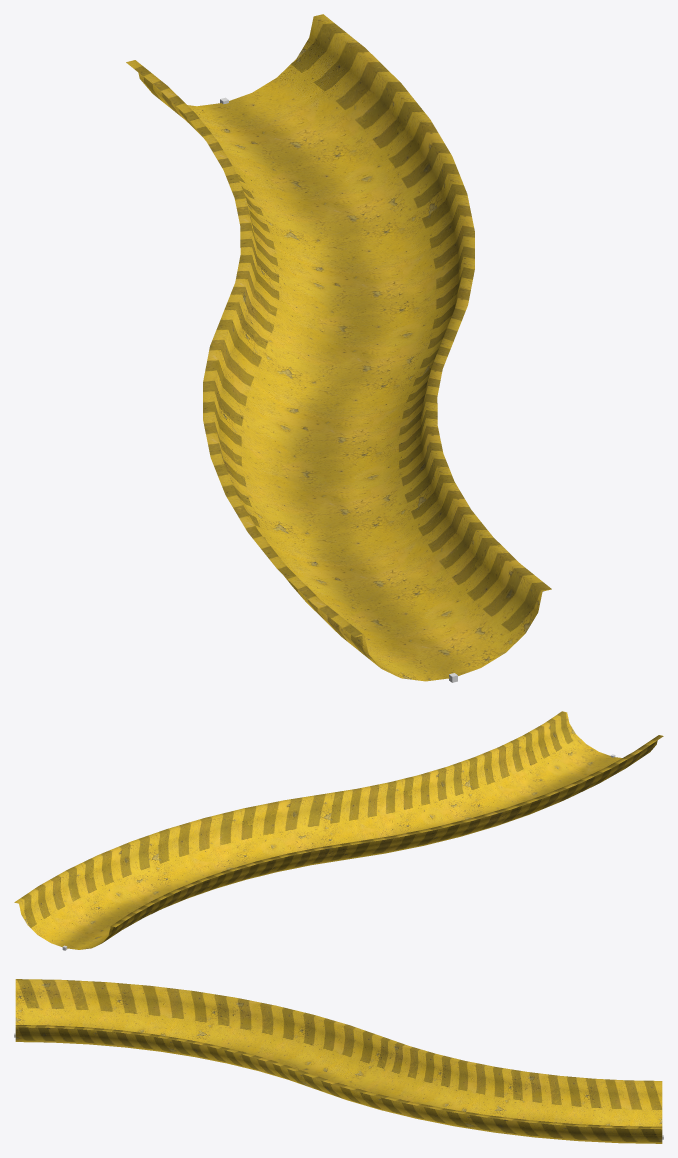
Rendered from roadShift.right3.fbx.
3 renders of one model, top to bottom at view 1: azimuth 30°, elevation 25°; view 2: azimuth 150°, elevation 25°; view 3: azimuth 270°, elevation 25°, orthographic. The views are drawn at different scales.
Parts seen in each view (by area): view 1: MESH roadShift.right3; view 2: MESH roadShift.right3; view 3: MESH roadShift.right3.
Boxes of the visible parts, bbox=[...] form: MESH roadShift.right3: bbox=[126, 14, 551, 681]; MESH roadShift.right3: bbox=[14, 711, 663, 949]; MESH roadShift.right3: bbox=[15, 979, 662, 1143].
Size of what is drawn, in the model's own units: 5274 by 553 by 9650.
